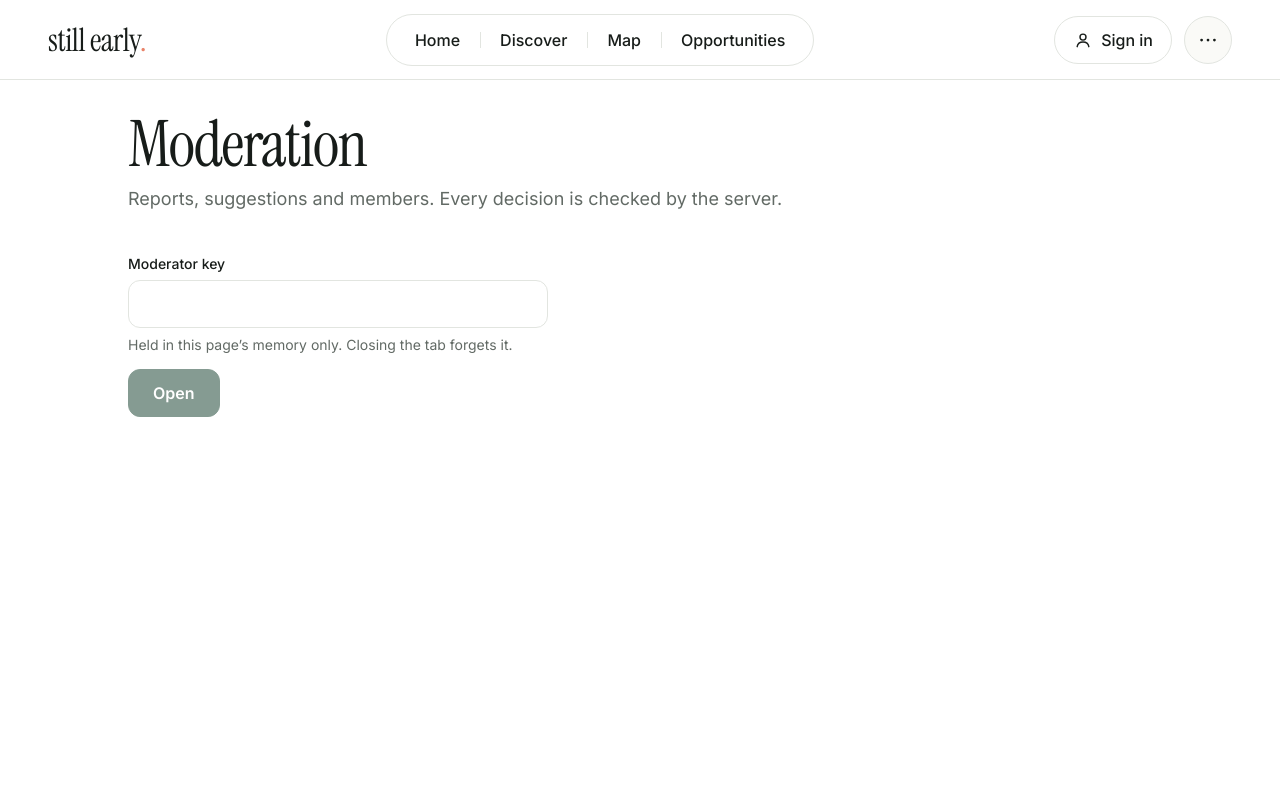
it: the moderators' page › asks for the key first, shows nothing until the server accepts it, and never writes it to storage
Expected: the button "Open" is disabled, [128,369,220,417]
Type "a-throwaway-key" into the password field labelled "Moderator key".
click(338, 304); type("a-throwaway-key")  # box [128,280,548,328]
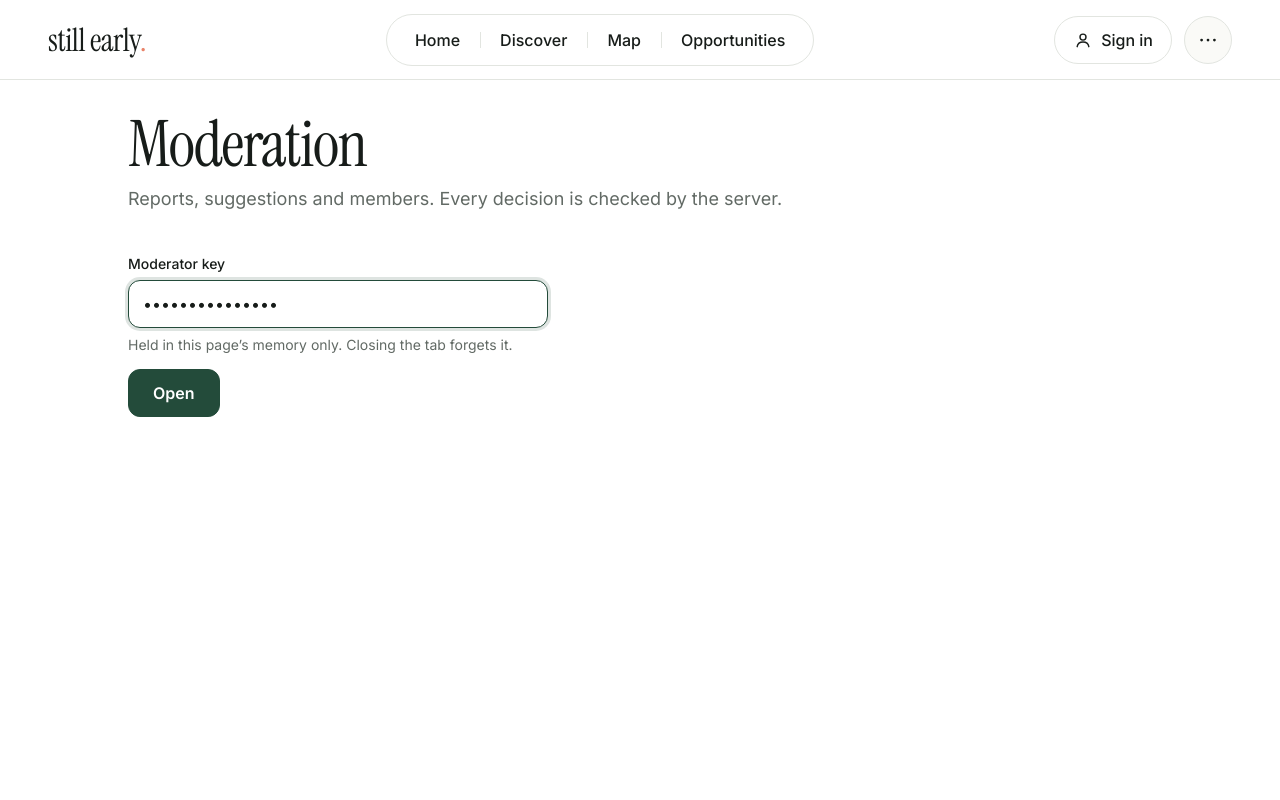
Click the button "Open".
click(174, 393)  # box [128,369,220,417]
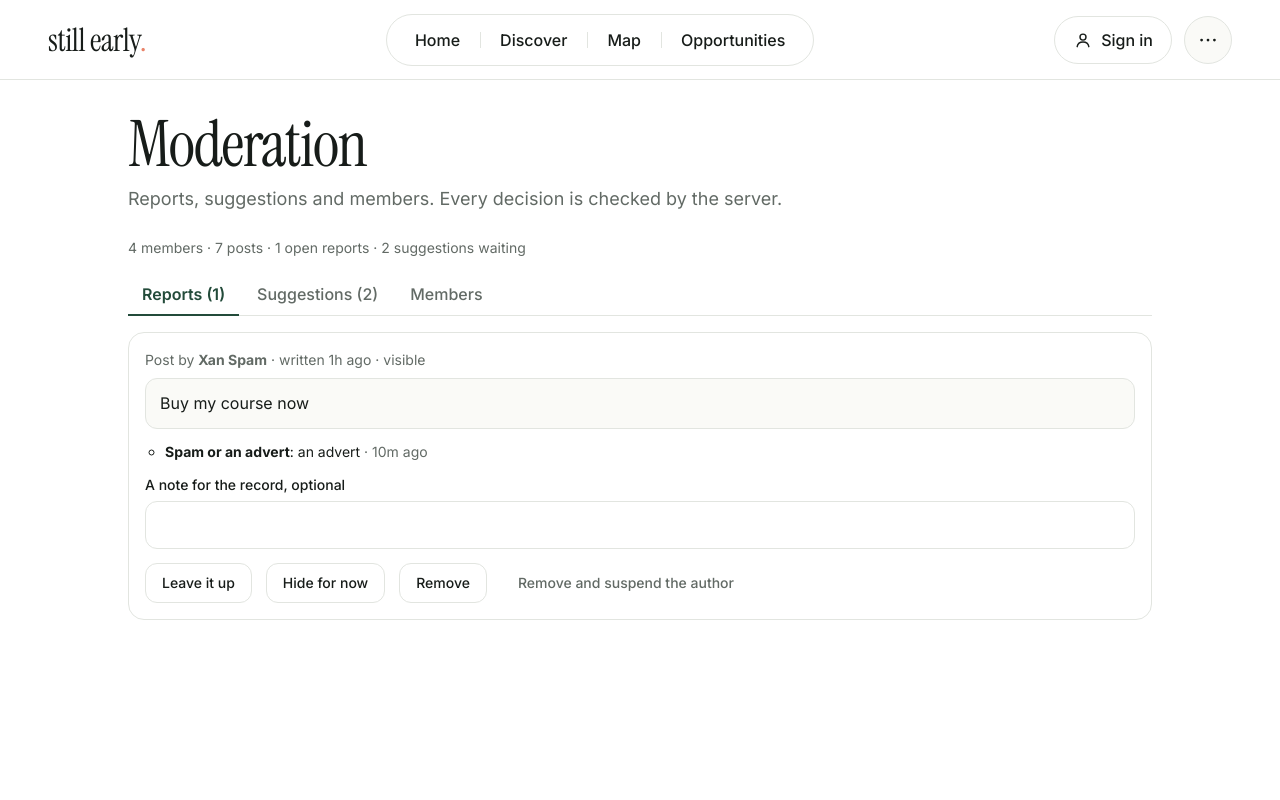
Now the message reads "4 members · 7 posts · 1 open reports · 2 suggestions waiting", box [128,239,526,256]
Now the label labelled "Moderator key" is gone
